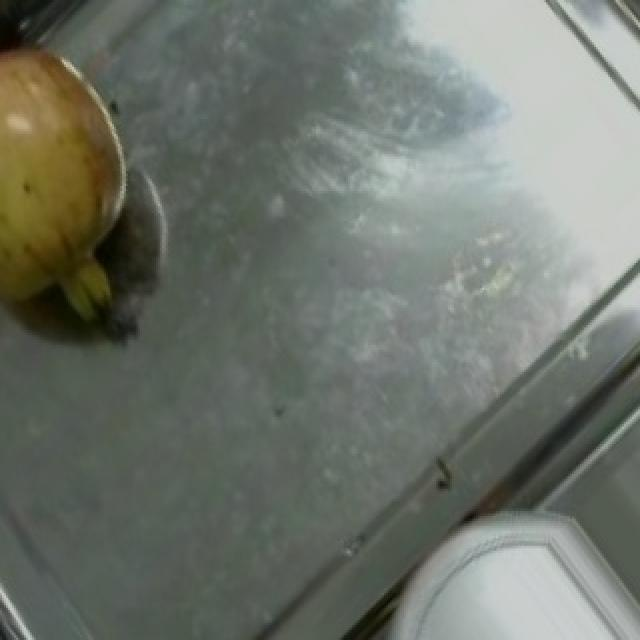fruit: (0, 15, 154, 290)
